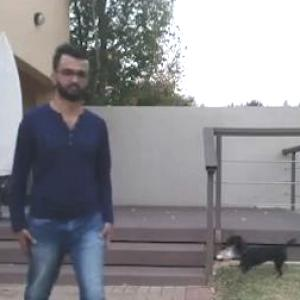follow: (16, 40, 132, 299)
